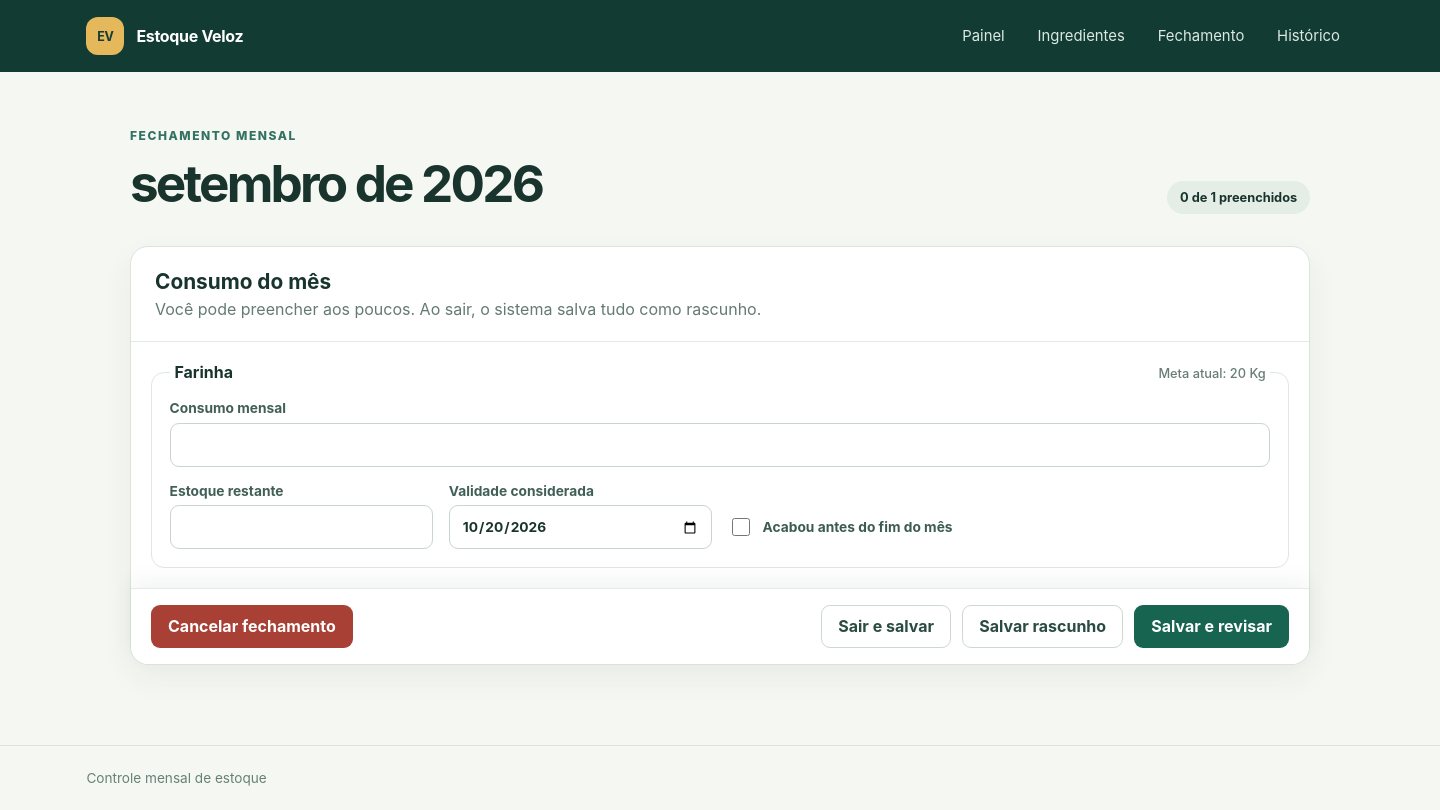
it: Fechamento mensal › preenche e salva o rascunho sem finalizar
This screenshot has width=1440, height=810.
In the number field named "Consumo mensal de Farinha": (720, 445) 170,423 -> 1270,467, type "14"
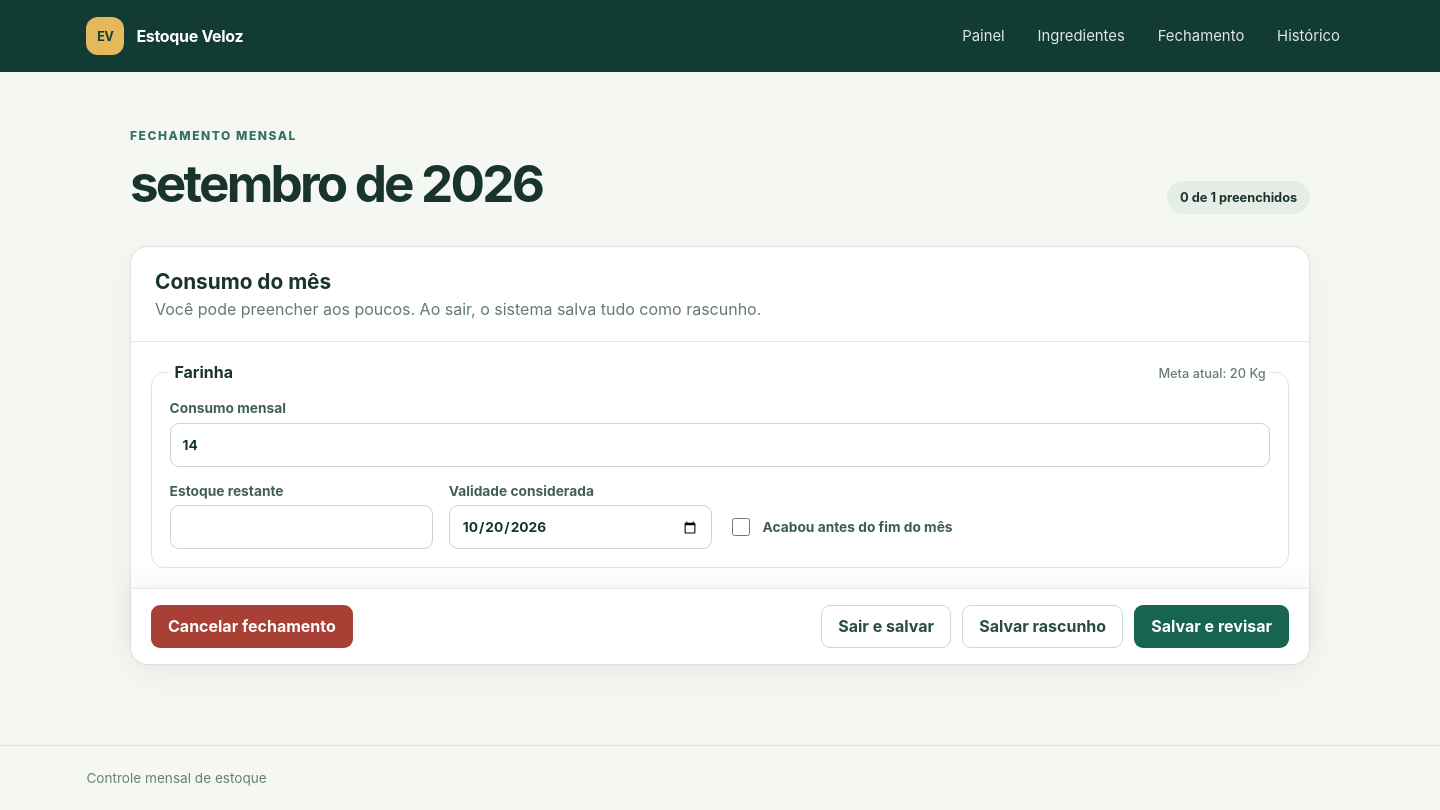
In the number field named "Estoque restante de Farinha": (301, 527) 170,505 -> 433,549, type "6"
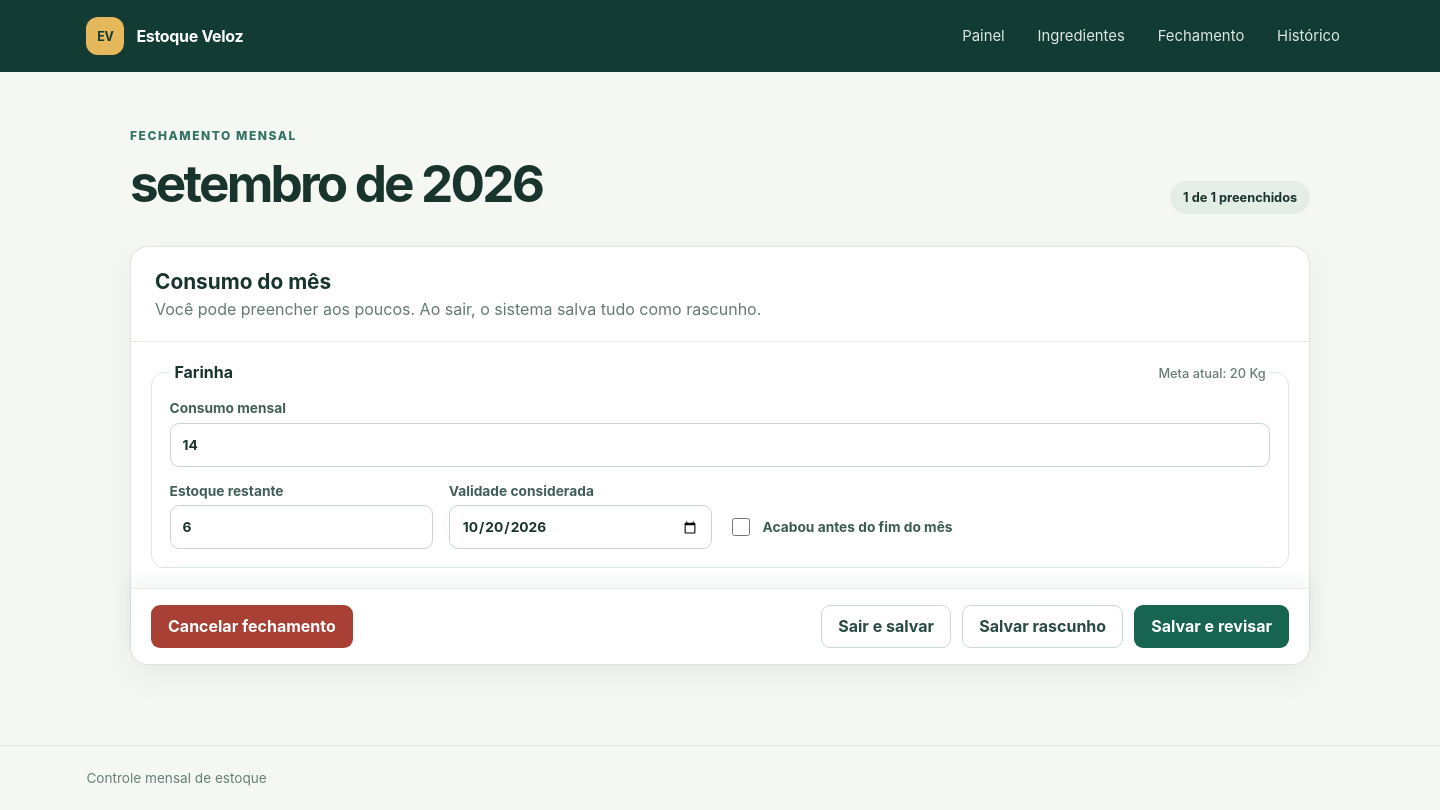
Click the button "Salvar rascunho": (1043, 626) 962,605 -> 1123,648
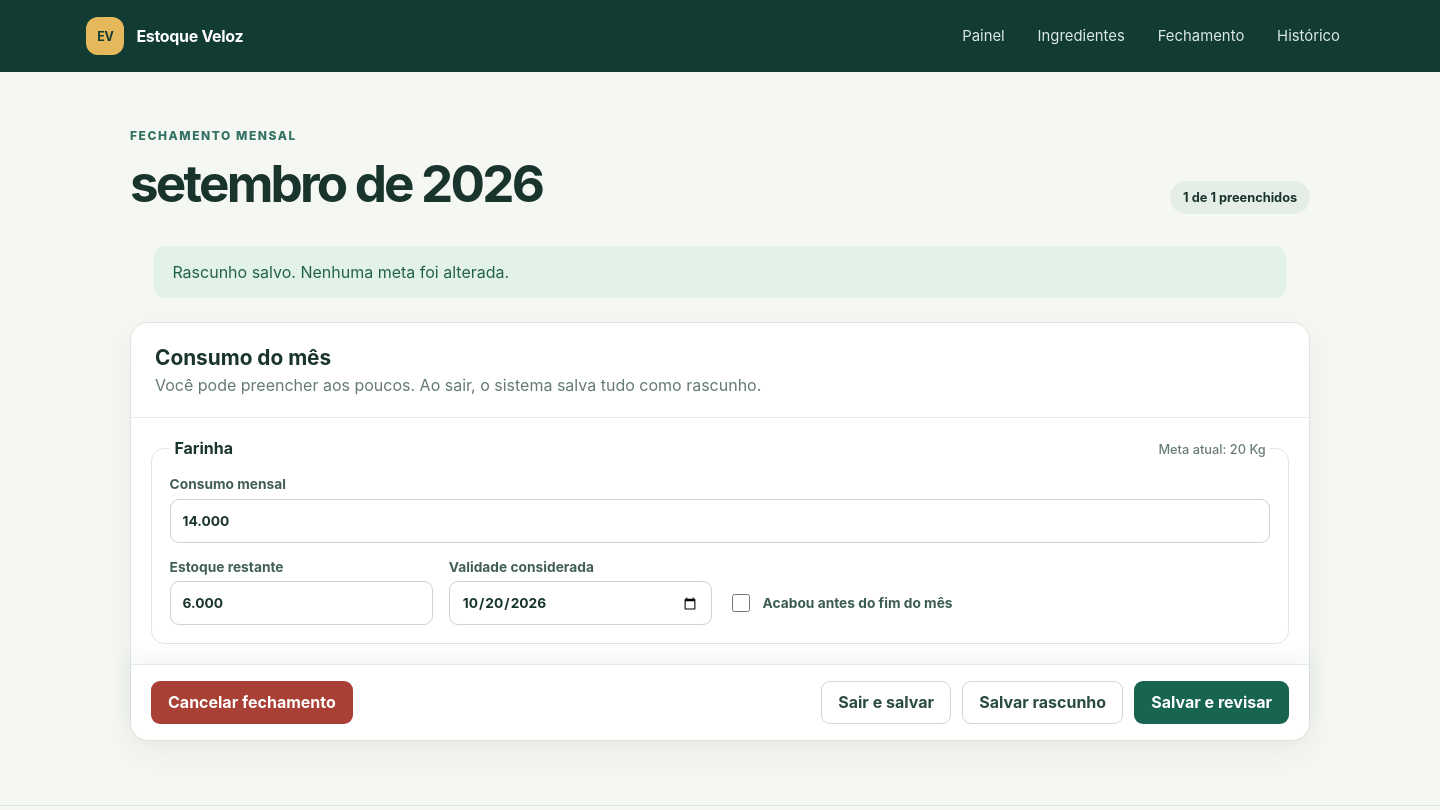
Result: the text "Rascunho salvo. Nenhuma meta foi alterada." is shown at 172,262 -> 509,282
